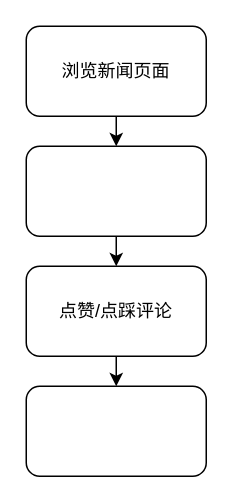
Some shapes in this 233 by 503 pixel diagram are drawn without their labels. Here are the shapes that lost their labels. From the top down, the centre of each, then its label:
At point 115,190: "选中评论".
At point 115,430: "点赞/点踩图标亮起 点赞/点踩数+1".
